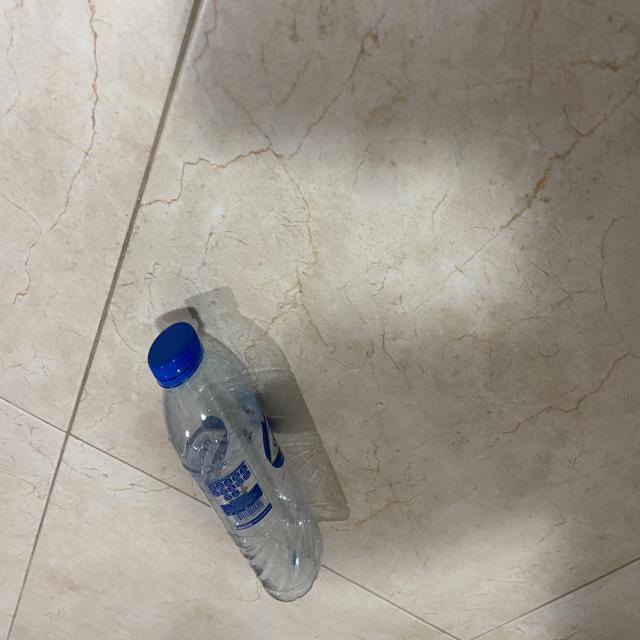bottle: (136, 323, 324, 616)
